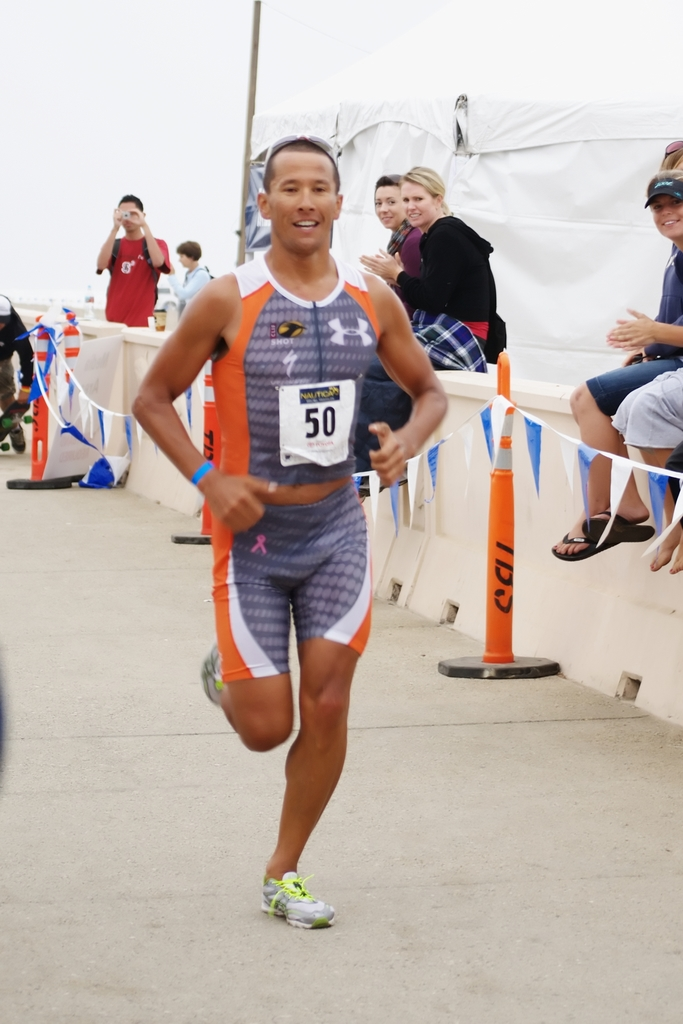Person: (563, 169, 683, 565), (609, 365, 683, 572), (372, 173, 425, 319), (0, 290, 36, 457), (165, 242, 218, 309), (659, 139, 683, 172)
